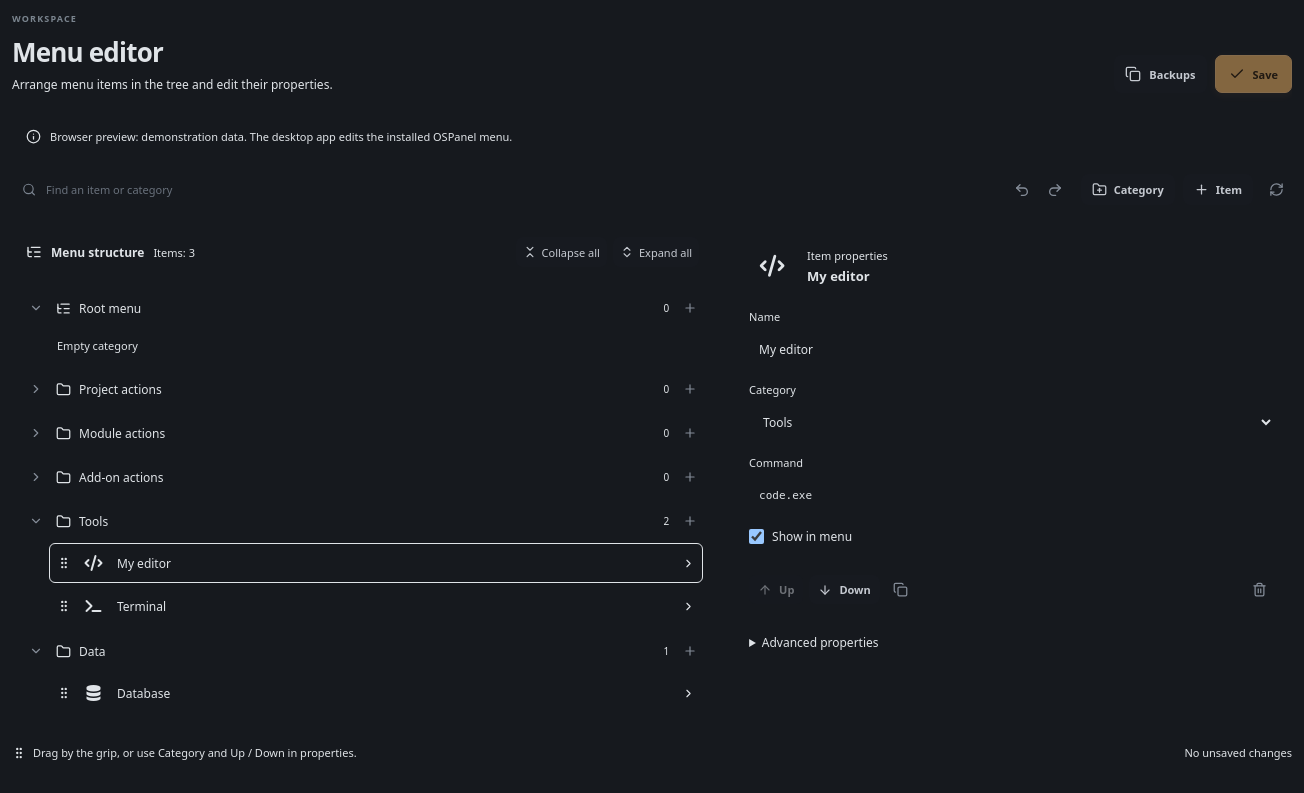
Test case: MenuEditor › keeps tree controls usable when preference storage is unavailable
Expected: the field labelled "Name" is shown, [749,331,1274,367]
Click the button "Collapse all": (561, 252) [516,237,607,267]
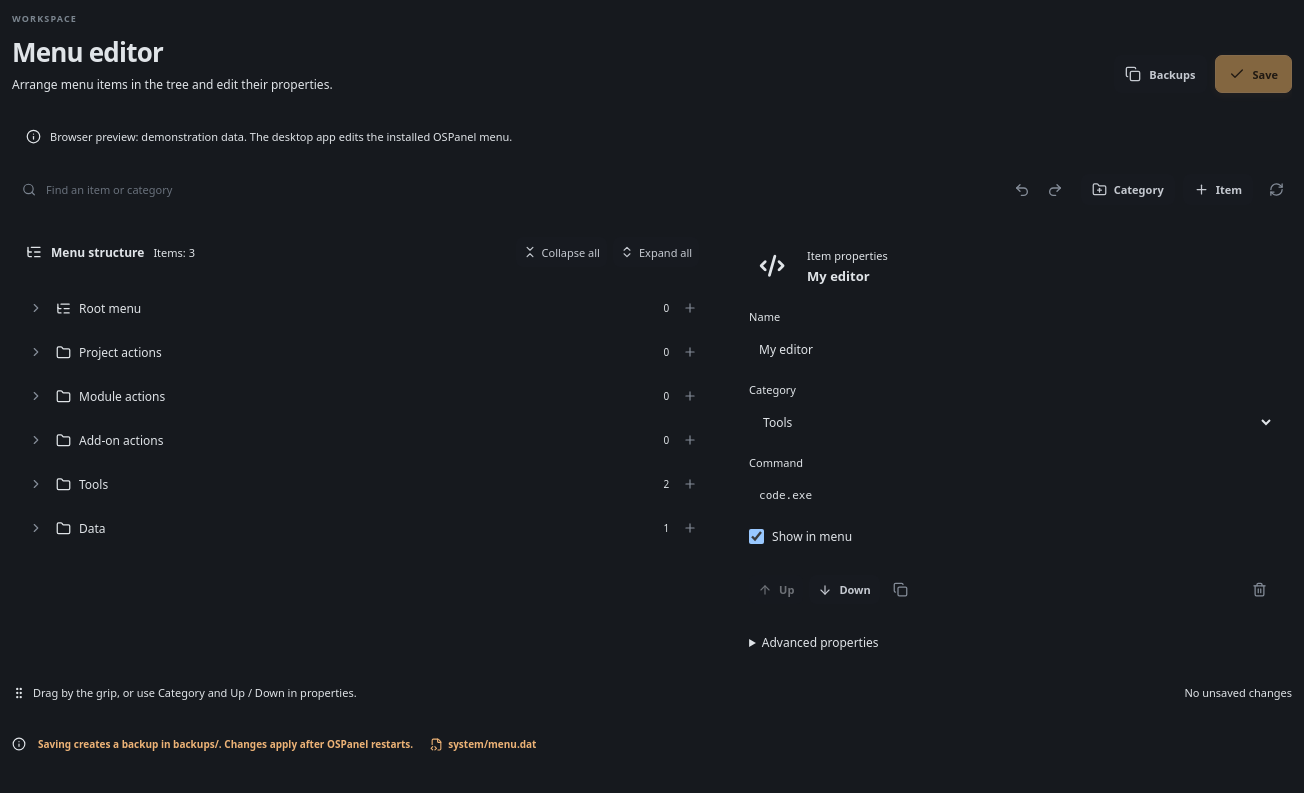
Now the button named "Expand Tools" is collapsed, box [22,470,49,498]
Click the button "Expand all": (656, 252) [613,237,699,267]
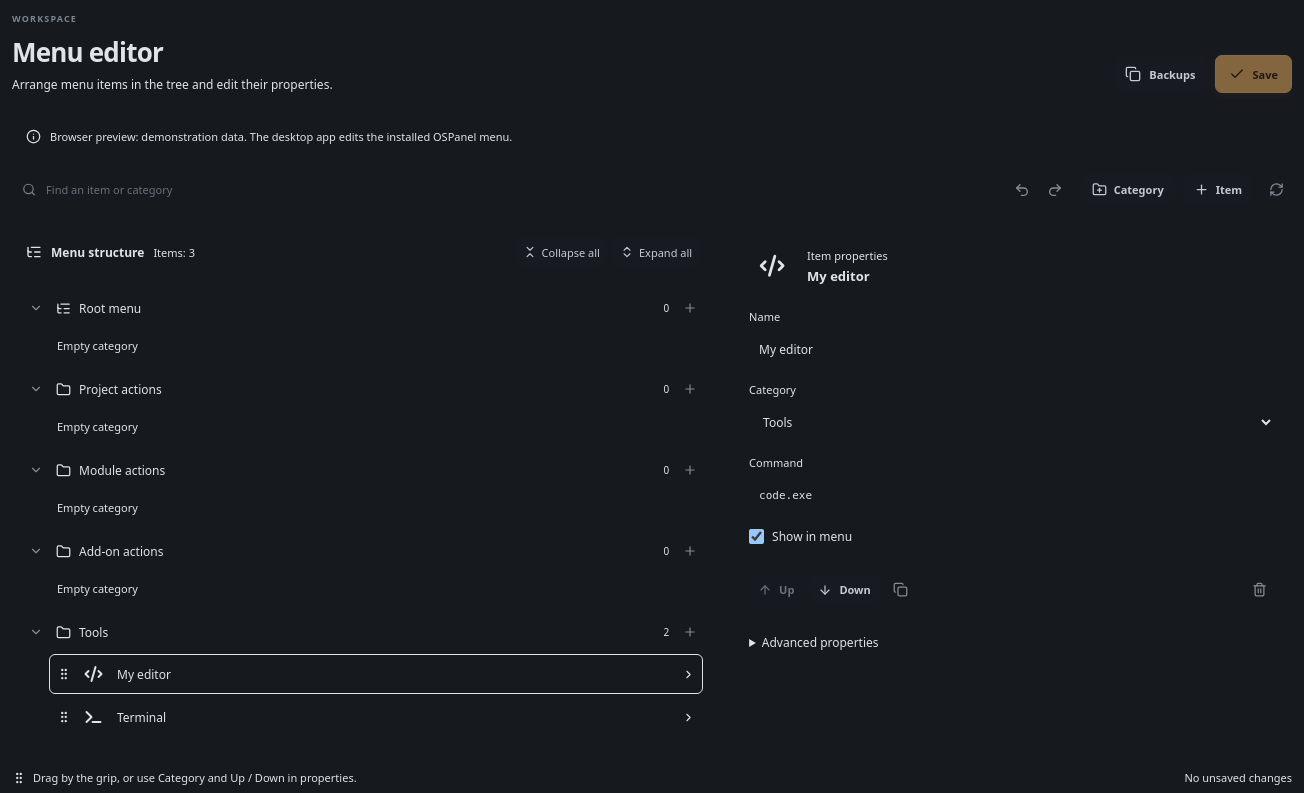
Now the button " My editor" is shown, box [80,660,677,688]
